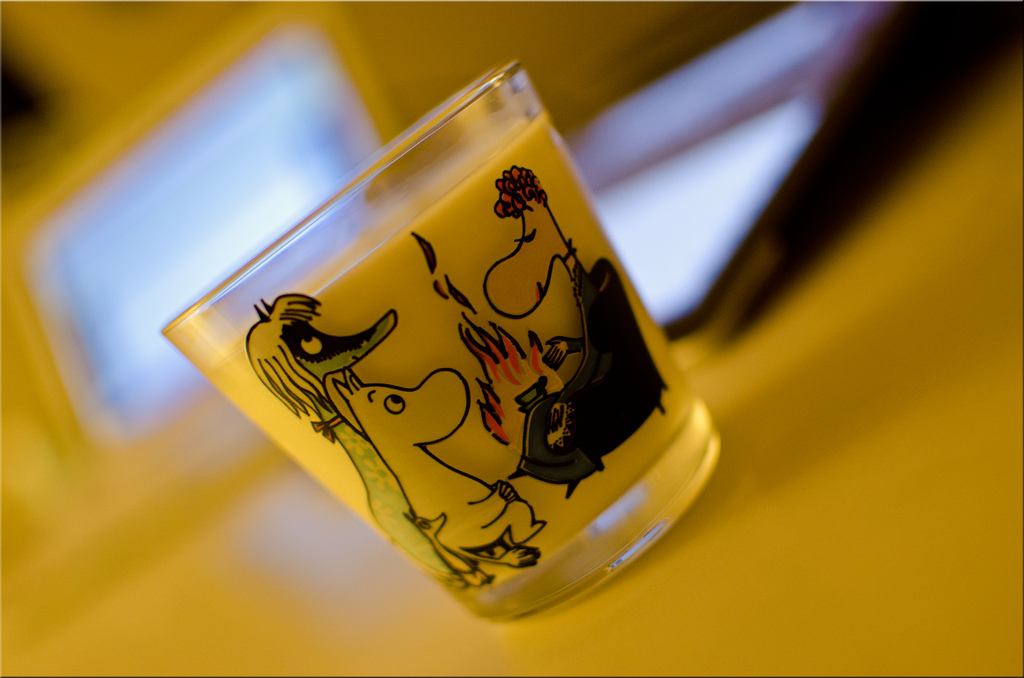glass of milk: (162, 61, 736, 624)
